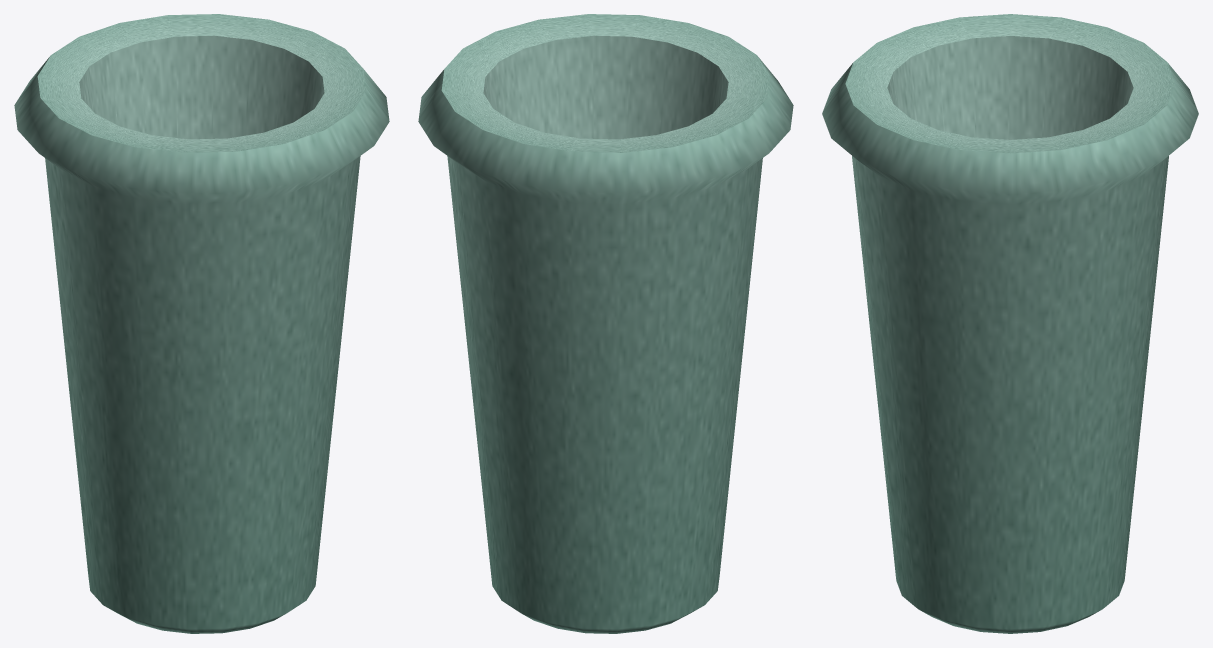
File: trashcan.fbx
The picture shows the model from 3 angles, left to right: view 1: azimuth 30°, elevation 25°; view 2: azimuth 150°, elevation 25°; view 3: azimuth 270°, elevation 25°; orthographic projection.
Visible parts, largest first — view 1: pPipe1; view 2: pPipe1; view 3: pPipe1.
Part boxes in pixels (x1,y1,x2,y2): pPipe1: [14, 14, 389, 633]; pPipe1: [418, 14, 793, 633]; pPipe1: [822, 14, 1198, 633].
Size of the model in its own units: 1.35 by 2.02 by 1.35.
